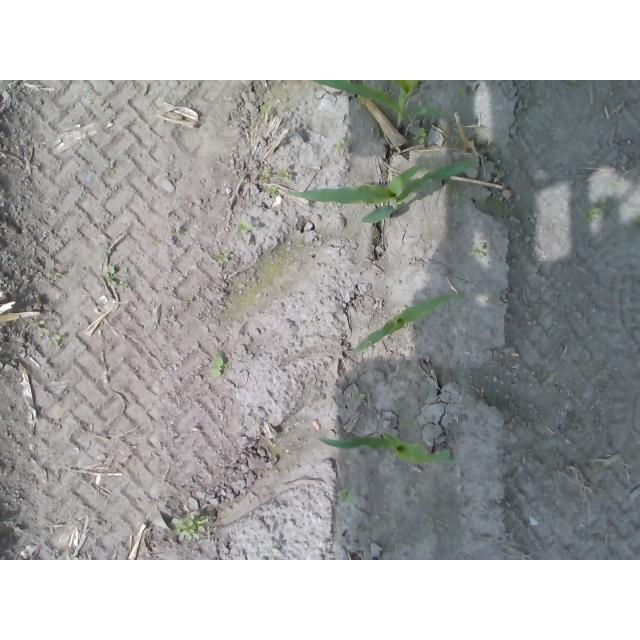Maize: (287, 159, 476, 225), (345, 289, 462, 358), (311, 80, 445, 129), (317, 434, 455, 466)
Weeds: (172, 515, 211, 544), (99, 247, 122, 289), (33, 320, 64, 349), (211, 355, 227, 378), (416, 125, 429, 143), (337, 487, 352, 502), (587, 206, 601, 221), (333, 140, 348, 153), (453, 86, 467, 99), (266, 185, 278, 199), (241, 219, 252, 234), (477, 243, 488, 258), (46, 269, 62, 279), (215, 254, 230, 264), (279, 169, 289, 182)
